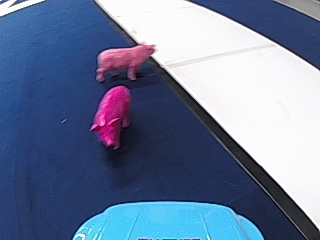pig: (90, 80, 129, 149), (94, 39, 153, 80)
